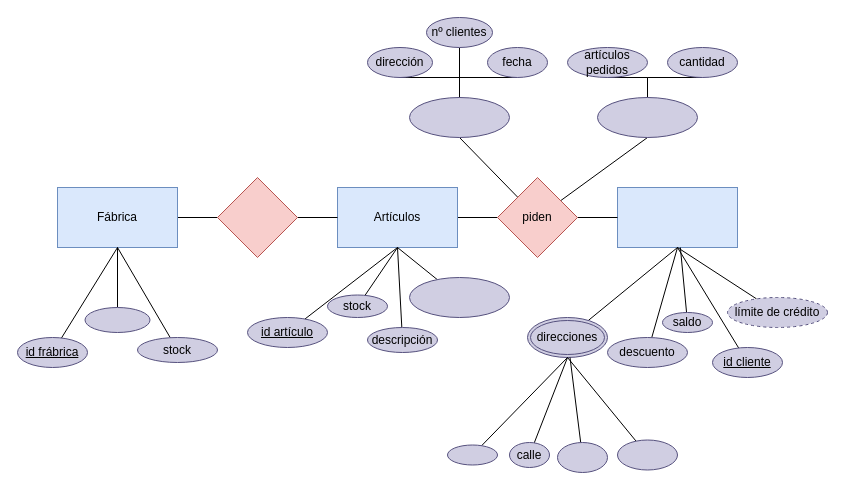
Some shapes in this 845 by 490 pixel diagram are drawn without their labels. Here are the shapes that lost their labels. From the top down, the centre of each, then its label:
point (459, 117): cabecera
point (647, 117): cuerpo
point (257, 217): distribuye
point (677, 217): Clientes
point (459, 297): fabrica que distribuye
point (117, 319): teléfono
point (472, 454): nº
point (582, 457): ciudad
point (647, 454): provincia
